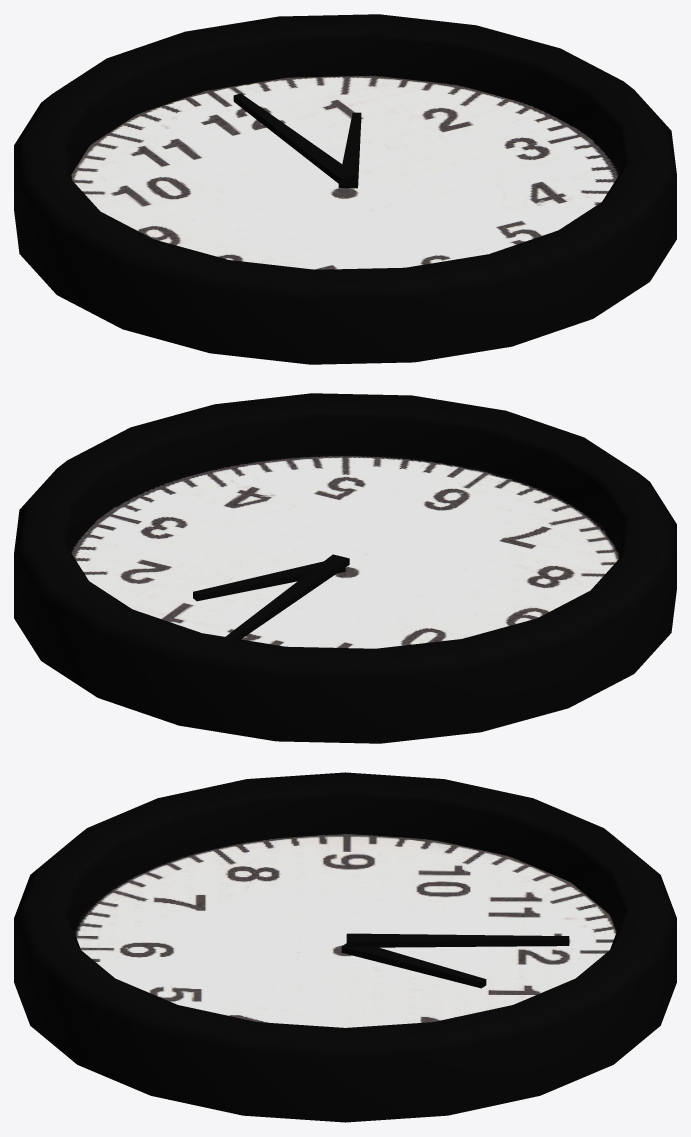
File: Clock.fbx
The picture shows the model from 3 angles, top to bottom: view 1: azimuth 30°, elevation 25°; view 2: azimuth 150°, elevation 25°; view 3: azimuth 270°, elevation 25°; orthographic projection.
Visible parts, largest first — view 1: pCylinder1, pCube1, pCube2; view 2: pCylinder1, pCube1, pCube2; view 3: pCylinder1, pCube1, pCube2.
Boxes of the visible parts, x1,y1,x2,y2 form: pCylinder1: (14,14,676,364); pCube1: (233,93,356,184); pCube2: (338,112,361,188); pCylinder1: (14,393,676,743); pCube1: (225,554,349,639); pCube2: (193,561,345,601); pCylinder1: (14,772,676,1122); pCube1: (346,933,569,947); pCube2: (341,943,486,988).
Size of the model in its own units: 2 by 0.2494 by 2.
1 material, 1 textured.
